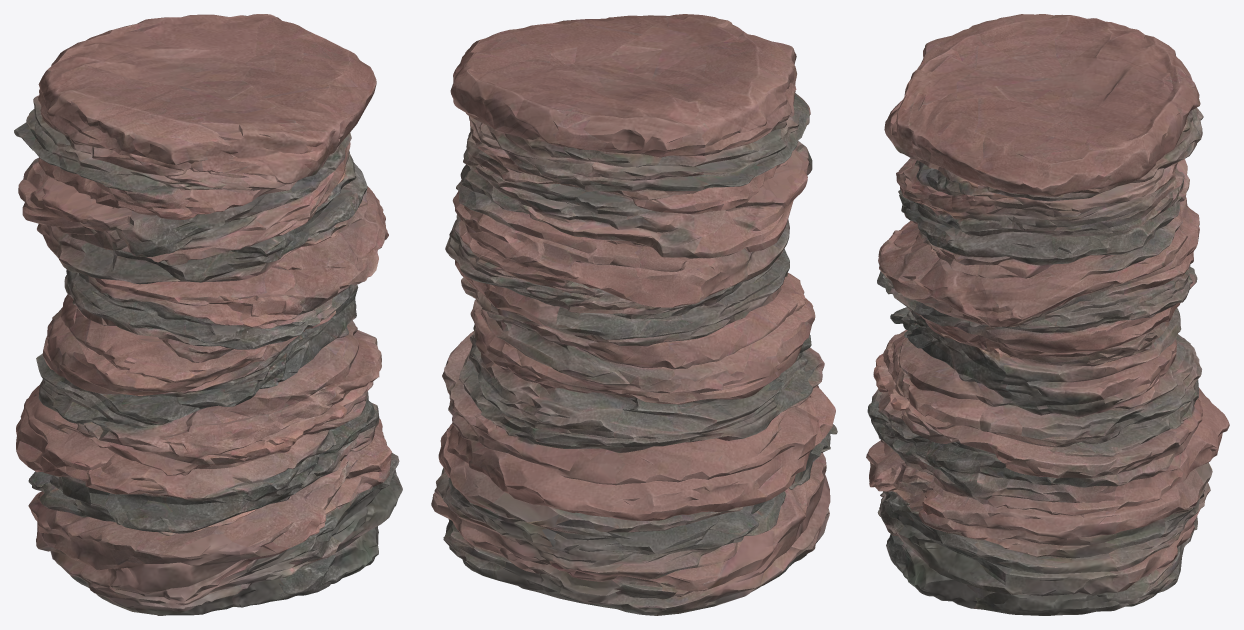
3 renders of one model, left to right at view 1: azimuth 30°, elevation 25°; view 2: azimuth 150°, elevation 25°; view 3: azimuth 270°, elevation 25°, orthographic. The views are drawn at different scales.
Visible parts, largest first — view 1: Mesh_0; view 2: Mesh_0; view 3: Mesh_0.
Part boxes in pixels (bbox=[...]): Mesh_0: bbox=[14, 14, 402, 615]; Mesh_0: bbox=[431, 14, 837, 615]; Mesh_0: bbox=[866, 14, 1229, 615].
Size of the model in its own units: 1.41 by 1.9 by 1.33.
Materials: 1 (1 with a texture image).
